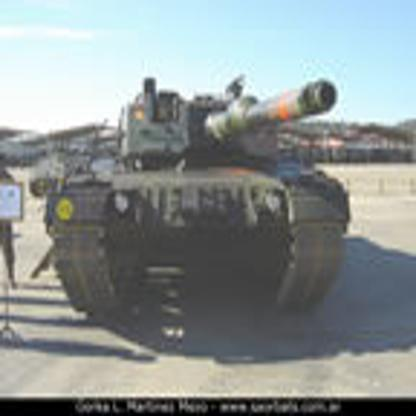Tank: (46, 72, 355, 340)
